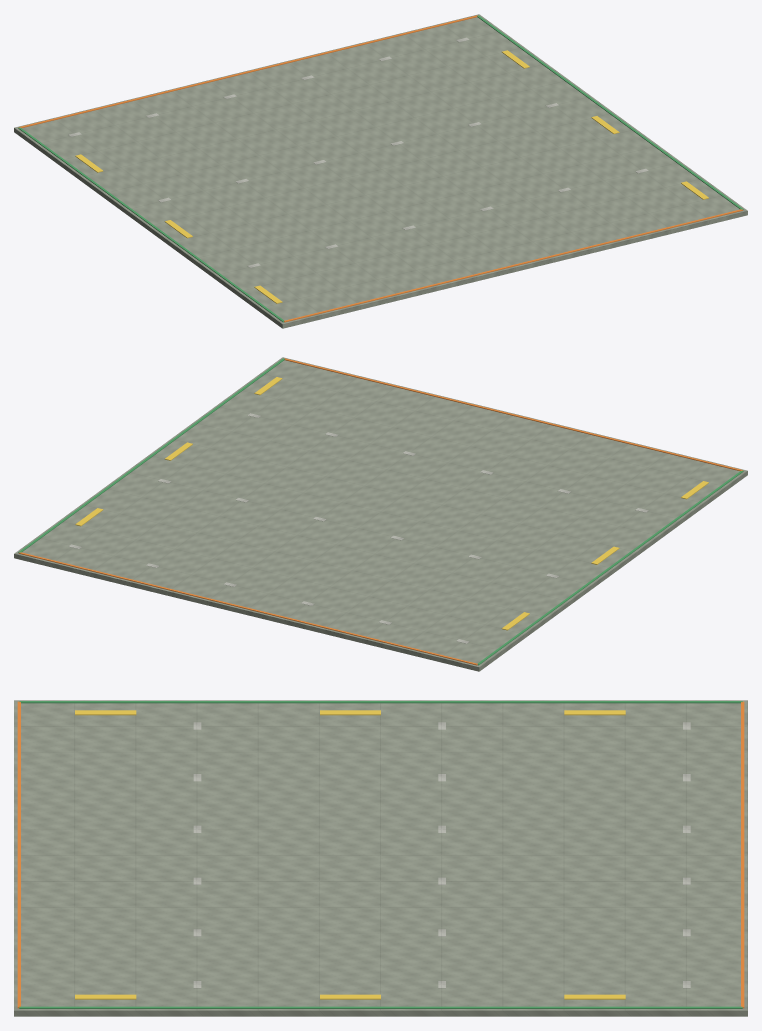
Rendered from CYCLE-001.glb.
3 renders of one model, top to bottom at view 1: azimuth 30°, elevation 25°; view 2: azimuth 150°, elevation 25°; view 3: azimuth 270°, elevation 25°, orthographic. The views are drawn at different scales.
Parts seen in each view (by area): view 1: CYCLE-001; view 2: CYCLE-001; view 3: CYCLE-001.
Part boxes in pixels (x1,y1,x2,y2): CYCLE-001: [14, 14, 747, 328]; CYCLE-001: [14, 357, 747, 671]; CYCLE-001: [14, 700, 747, 1016].
Size of the model in its own units: 48 by 0.51 by 48.
5 materials, 2 textured.
